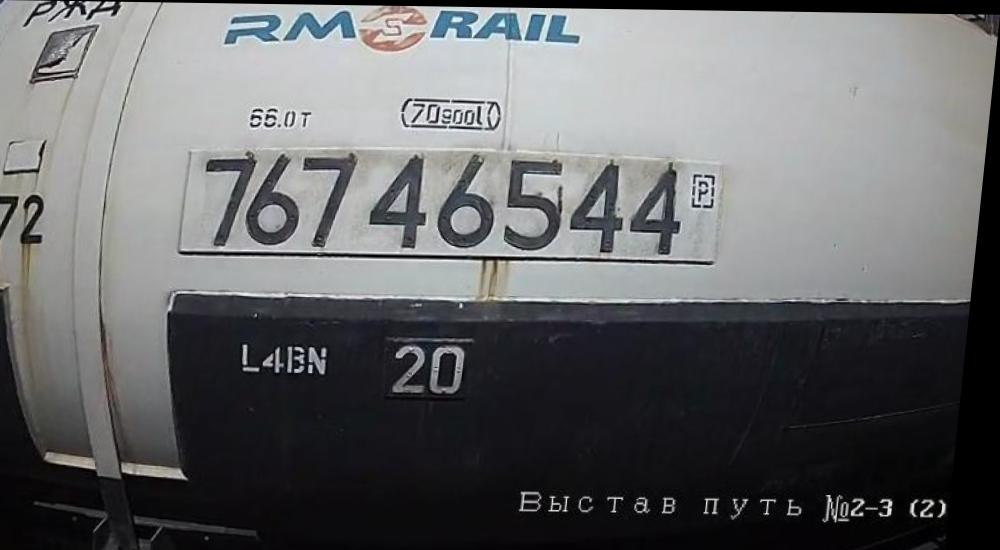Wagon-number: (195, 145, 700, 260)
